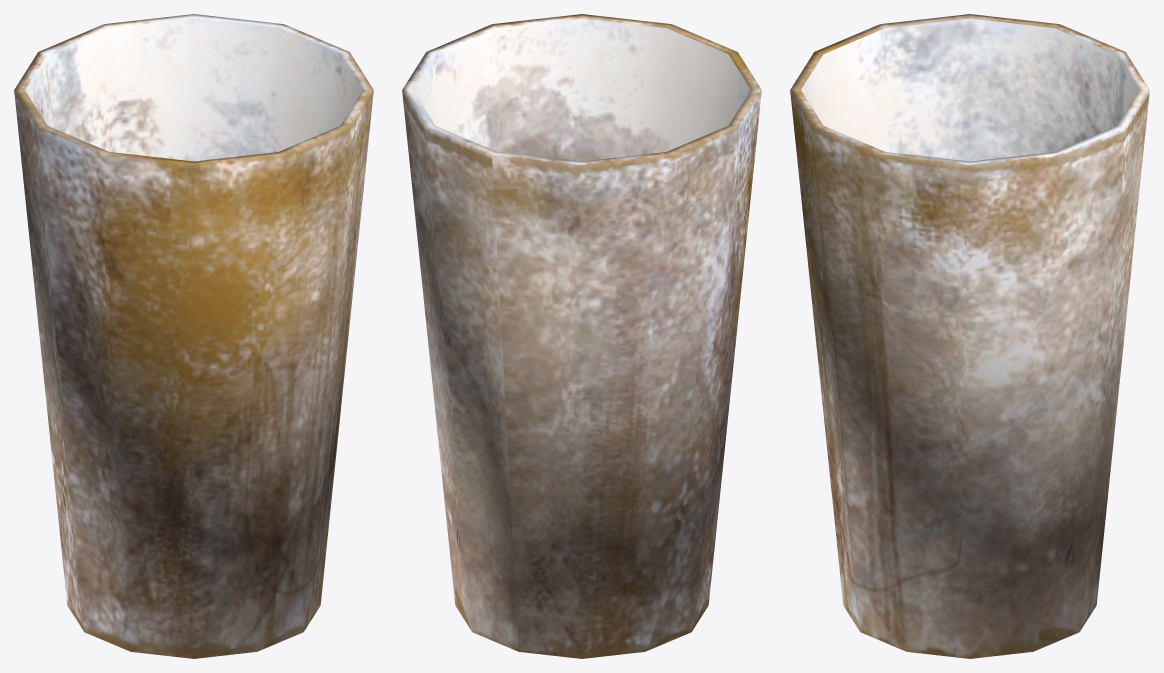
The model's file is tincanVase07.FBX.
3 renders of one model, left to right at view 1: azimuth 30°, elevation 25°; view 2: azimuth 150°, elevation 25°; view 3: azimuth 270°, elevation 25°, orthographic.
Visible parts, largest first — view 1: SM_TinCanVase07; view 2: SM_TinCanVase07; view 3: SM_TinCanVase07.
Part boxes in pixels (x1,y1,x2,y2): SM_TinCanVase07: [14, 14, 373, 658]; SM_TinCanVase07: [402, 14, 761, 658]; SM_TinCanVase07: [790, 14, 1149, 658].
Size of the model in its own units: 19.11 by 30.21 by 19.11.
Materials: 1 (1 with a texture image).
